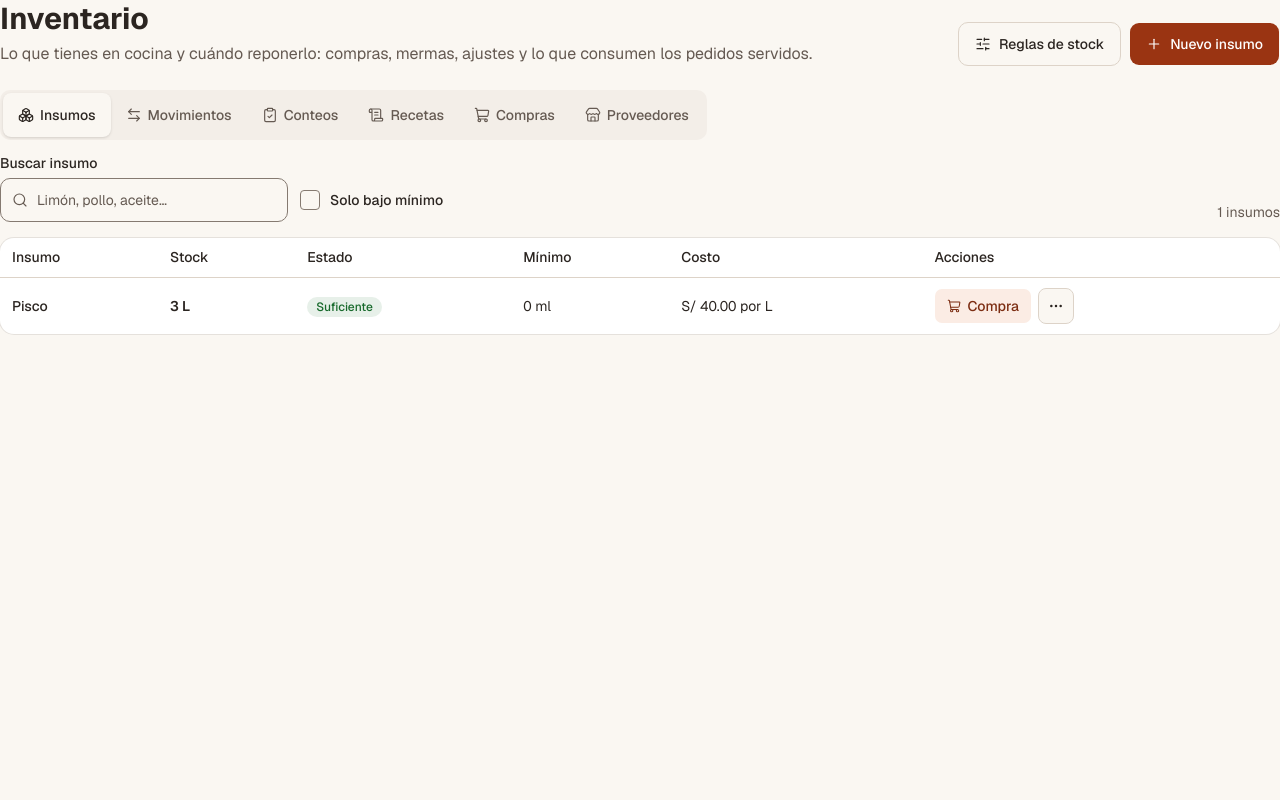
it: compras y mermas › compra en botellas: muestra la conversión y envía cuántas
The width and height of the screenshot is (1280, 800).
Click the button with aria-label "Compra de Pisco". click: (983, 306)
box: [934,288,1032,324]
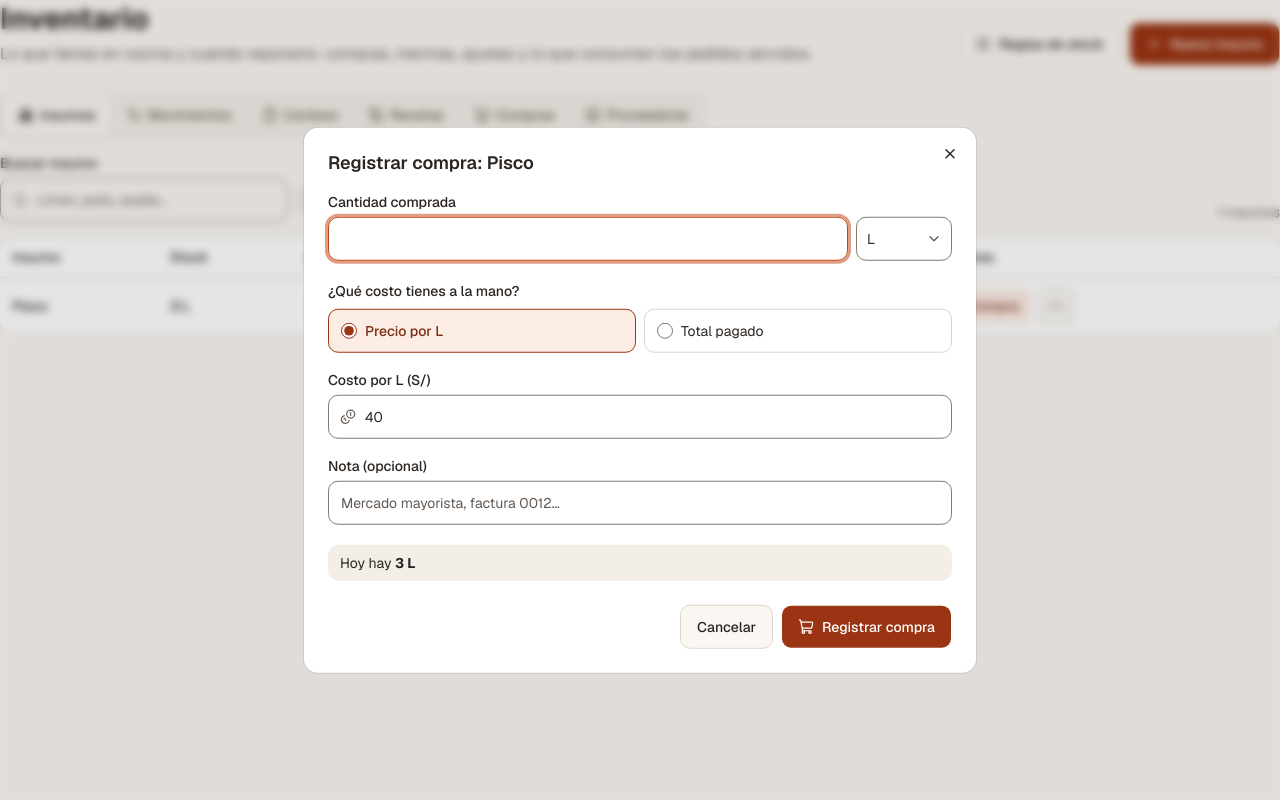
Type "4" into the field labelled "Cantidad comprada". click: (588, 238)
box: [328,216,848,260]
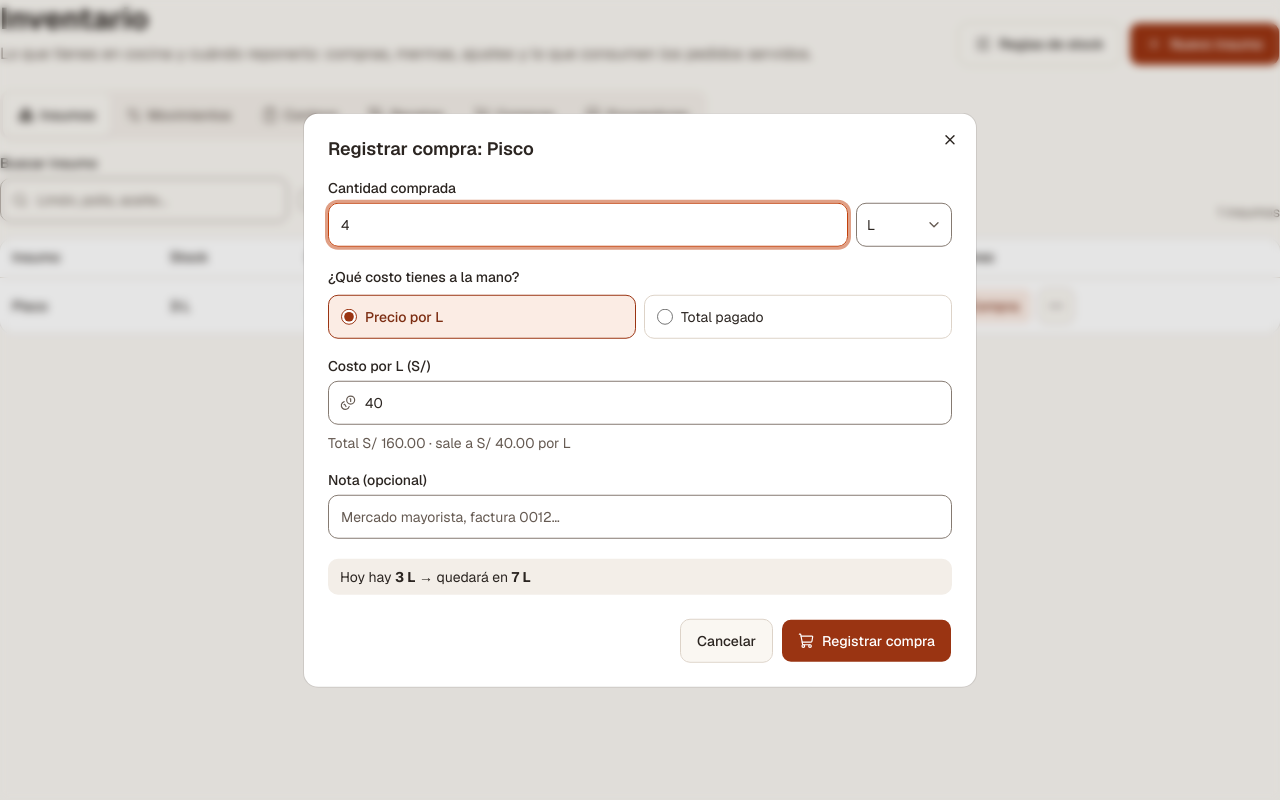
Select "botella" in the dropdown named "Unidad de cantidad comprada". click: (904, 224)
box: [856,202,952,246]
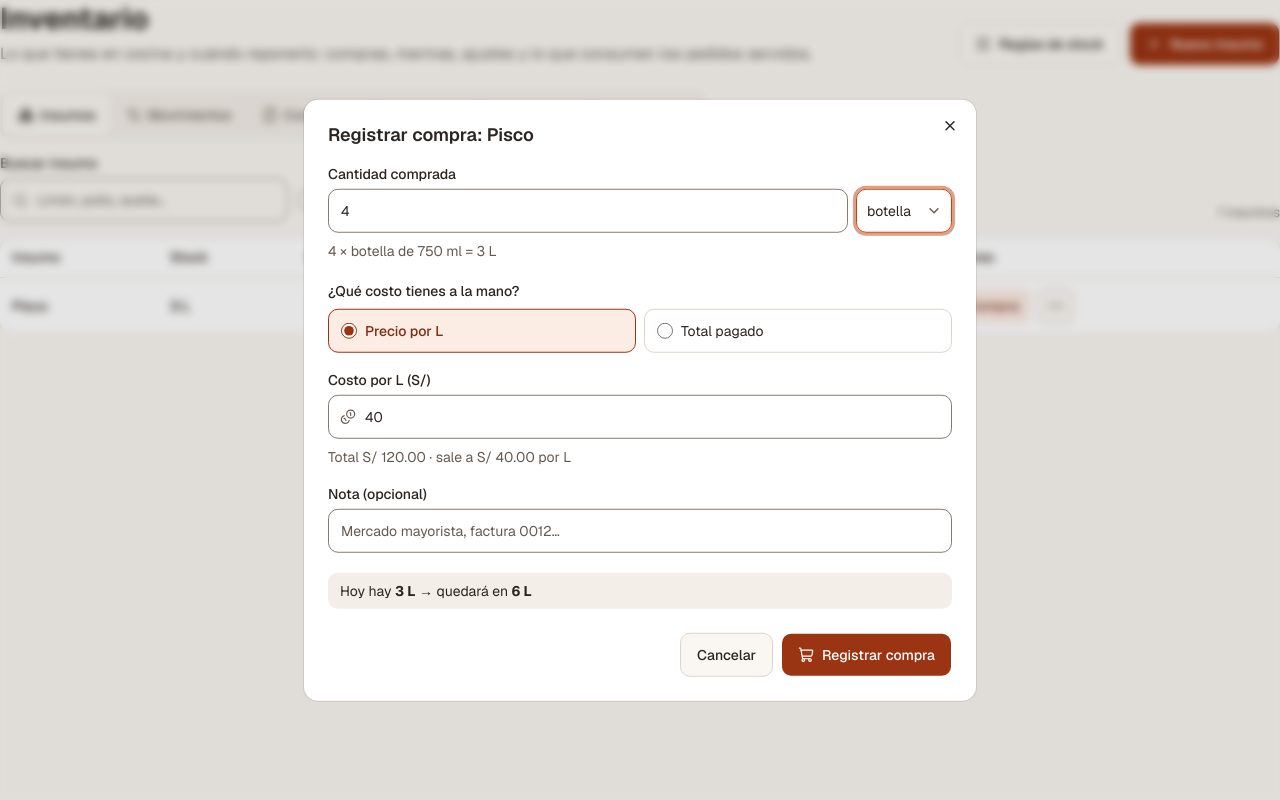
Check: the text "4 × botella de 750 ml = 3 L" is shown, box [328,241,497,259]
Click the button "Registrar compra". click: (866, 654)
box: [781,632,952,676]
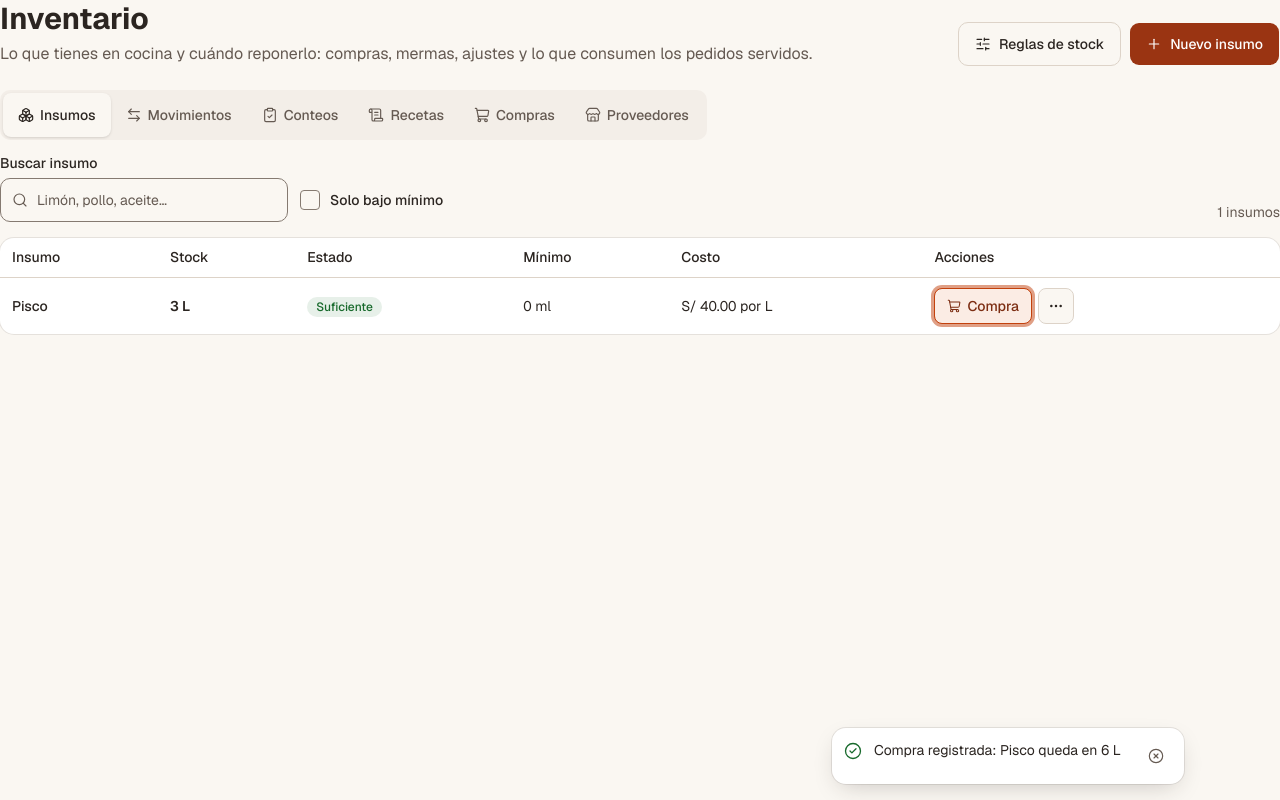
Check: the text "Compra registrada: Pisco queda en 6 L" is shown, box [874,740,1128,760]
